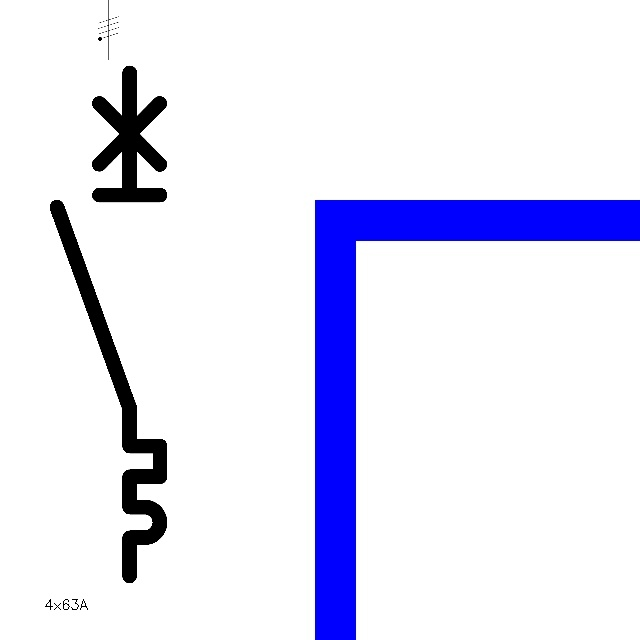interruptor_termomagnetico: (44, 59, 173, 588)
